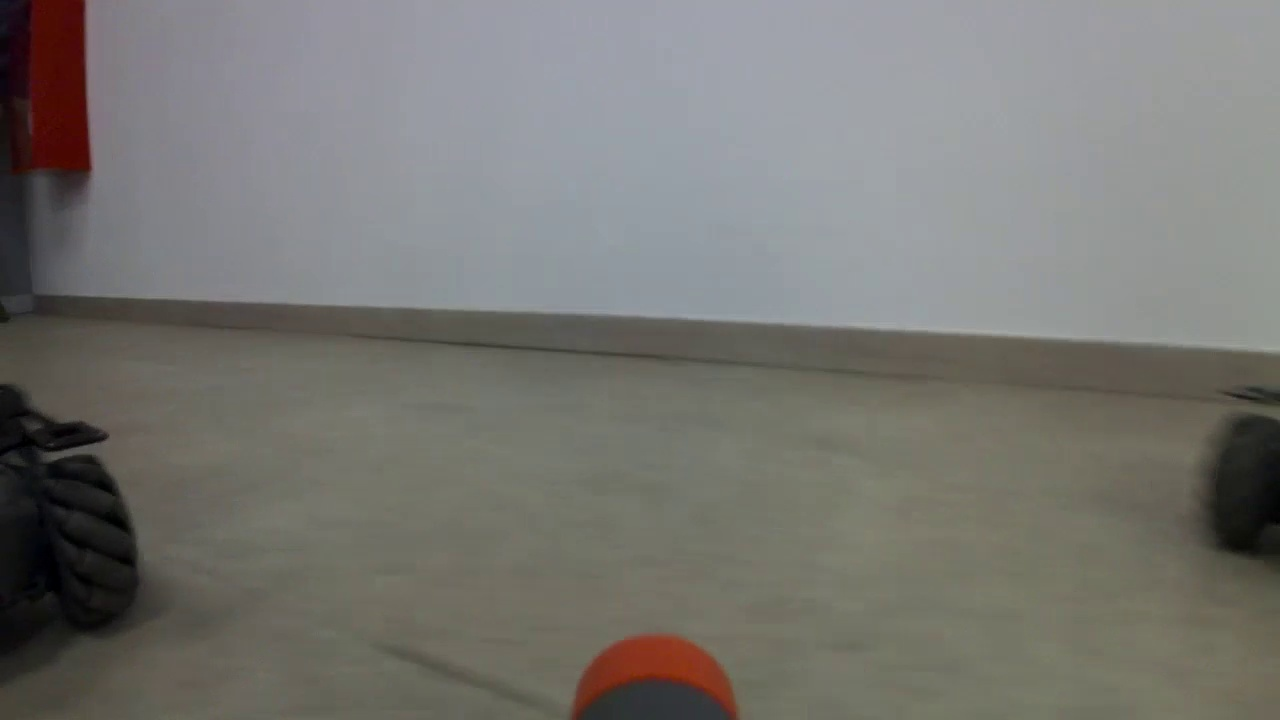robot: (1, 357, 142, 650)
